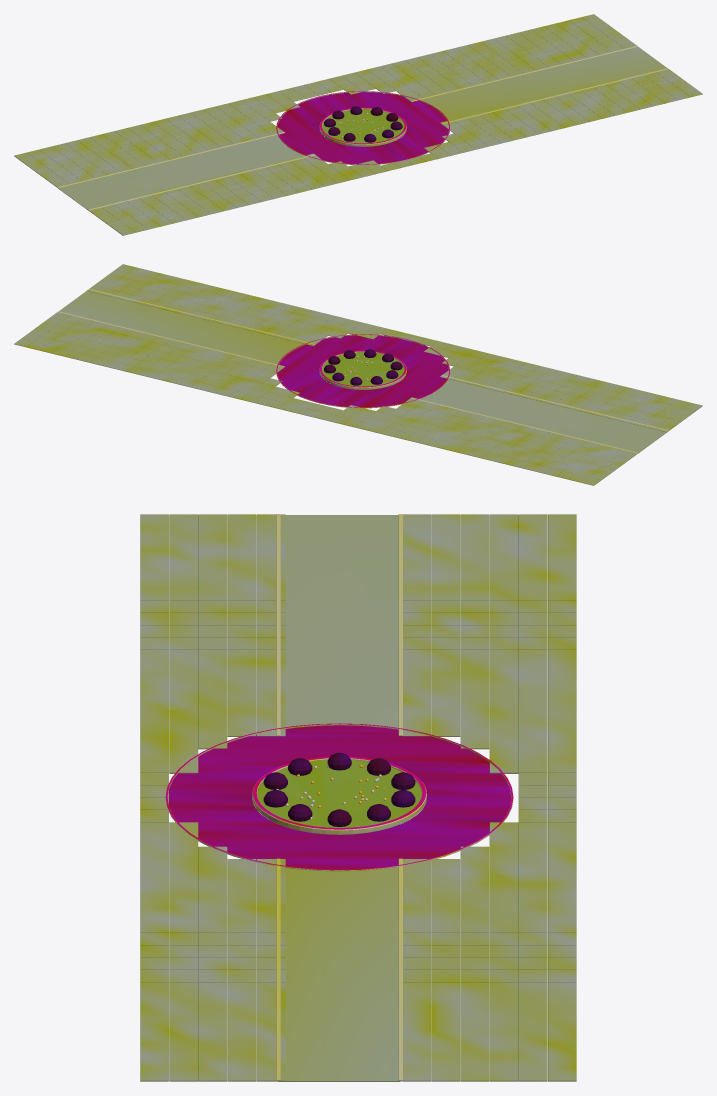
The model's file is GS_Square.glb.
The picture shows the model from 3 angles, top to bottom: view 1: azimuth 30°, elevation 25°; view 2: azimuth 150°, elevation 25°; view 3: azimuth 270°, elevation 25°; orthographic projection. The views are drawn at different scales.
Visible parts, largest first — view 1: GS_Square; view 2: GS_Square; view 3: GS_Square.
Boxes of the visible parts, left/top/right/bottom form: GS_Square: left=14, top=14, right=702, bottom=235; GS_Square: left=14, top=264, right=702, bottom=485; GS_Square: left=140, top=514, right=576, bottom=1081.
Bounding box in the file's own units: 92 × 1.3 × 29.98.
